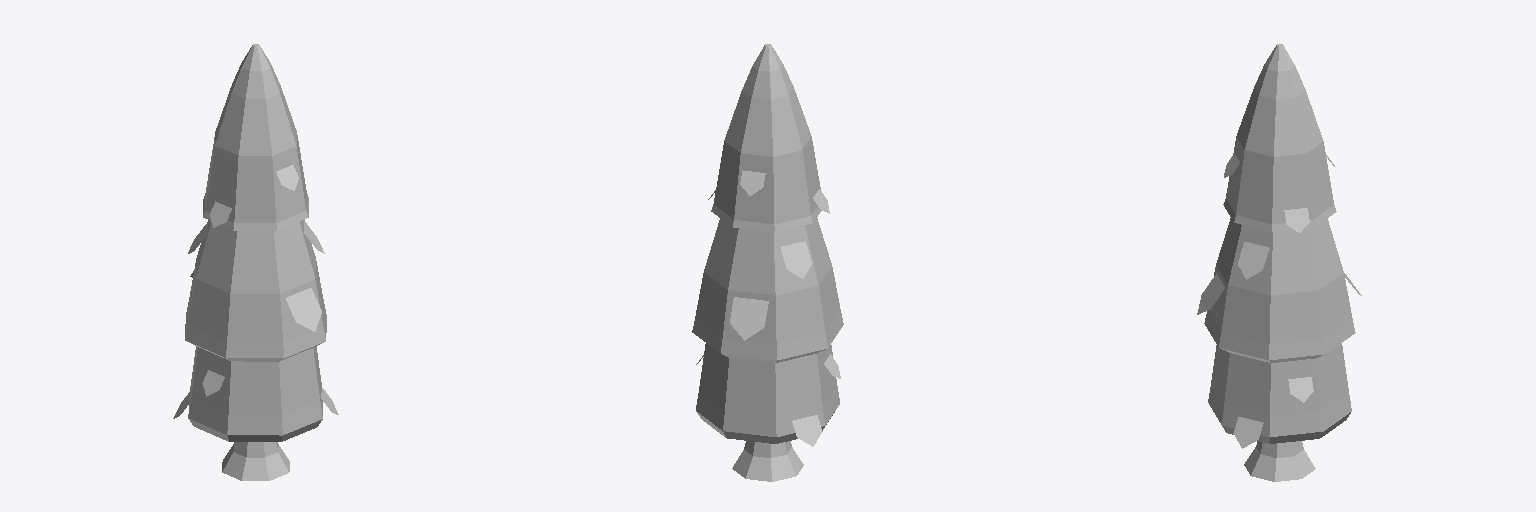
File: @wall.004.obj
The picture shows the model from 3 angles: view 1: azimuth 30°, elevation 25°; view 2: azimuth 150°, elevation 25°; view 3: azimuth 270°, elevation 25°; orthographic projection.
Visible parts, largest first — view 1: @wall.004; view 2: @wall.004; view 3: @wall.004.
Part boxes in pixels (left/top/right/bottom): @wall.004: left=173, top=44, right=338, bottom=480; @wall.004: left=692, top=44, right=843, bottom=481; @wall.004: left=1197, top=44, right=1361, bottom=481.
Bounding box in the file's own units: 1.87 × 5.75 × 2.05.